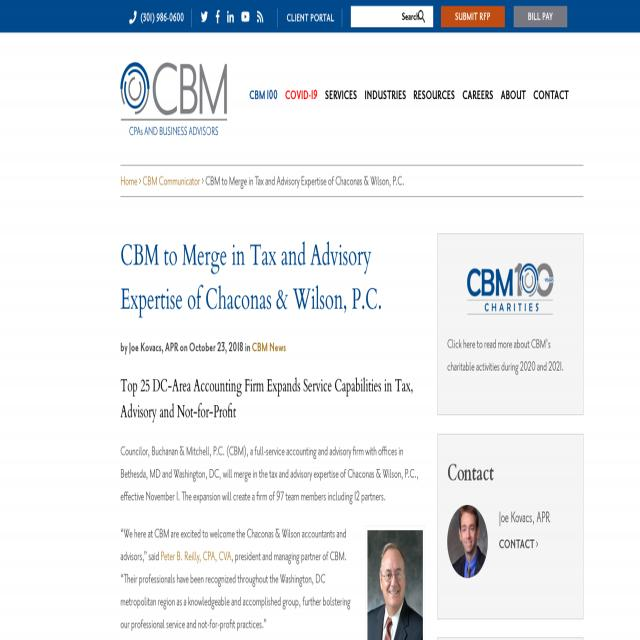button: (437, 435, 583, 621), (438, 233, 584, 416), (111, 46, 237, 151), (367, 528, 422, 640), (410, 80, 456, 116), (361, 82, 410, 115), (280, 5, 341, 28), (125, 6, 188, 27), (532, 81, 573, 113), (440, 6, 505, 26), (322, 82, 359, 115), (513, 6, 568, 28), (284, 80, 320, 112), (460, 81, 496, 113), (494, 79, 529, 111), (245, 82, 280, 114), (225, 4, 238, 28), (239, 4, 252, 28), (253, 5, 267, 27), (197, 4, 210, 27), (211, 4, 224, 27), (418, 8, 425, 24)
field: (351, 6, 433, 26)
